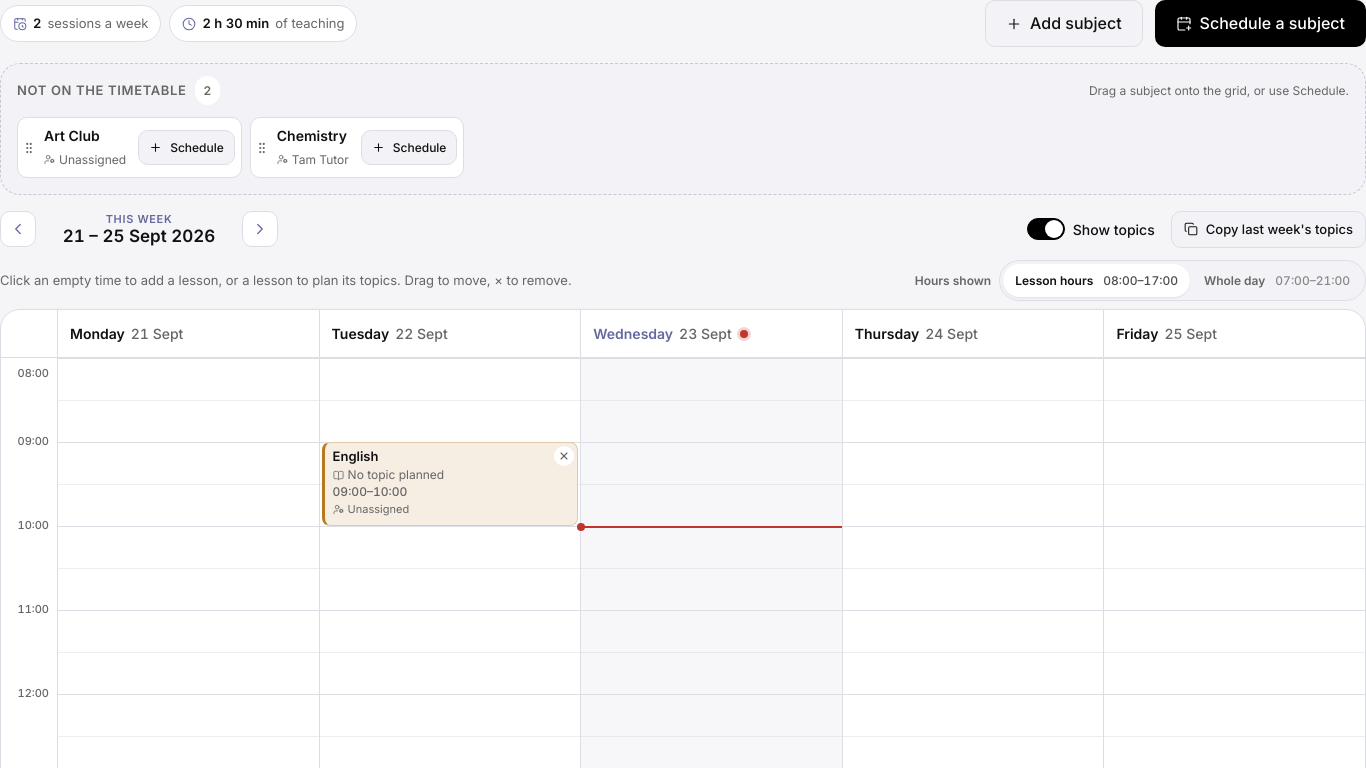
Test: TimetablePage changing and removing sessions › the × on a block takes it off the timetable in one click
Expected: the text "English" is shown, [333, 448, 378, 464]
Click the button named "Remove English from Tuesday": (564, 456) [554, 446, 574, 466]
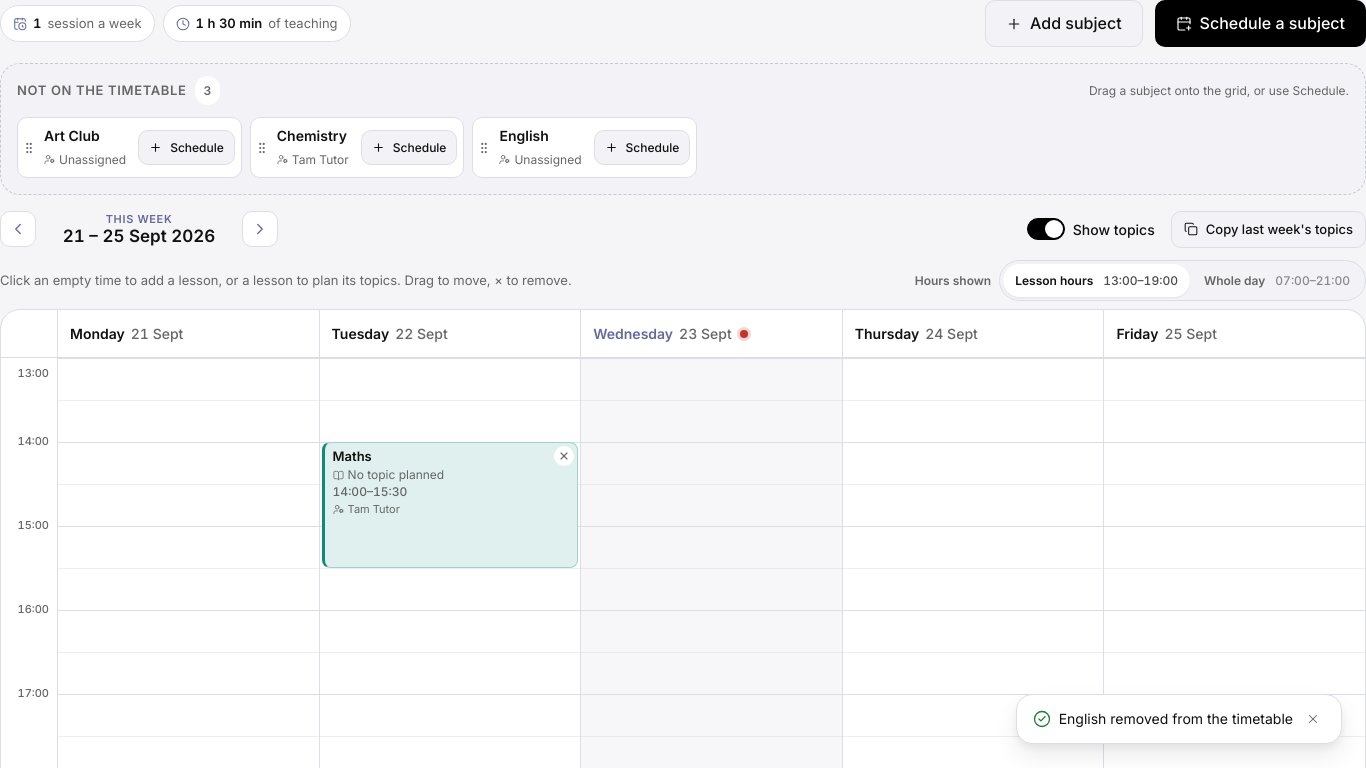
Result: the text "English removed from the timetable" is shown at [1059, 707, 1293, 731]
Result: the text "English" is shown at [499, 127, 549, 144]
